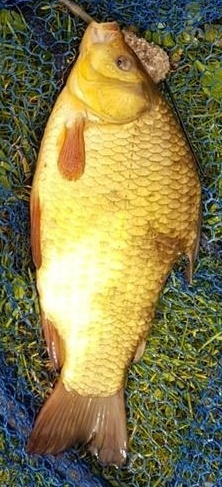Carassius carassius: (20, 20, 202, 467)
